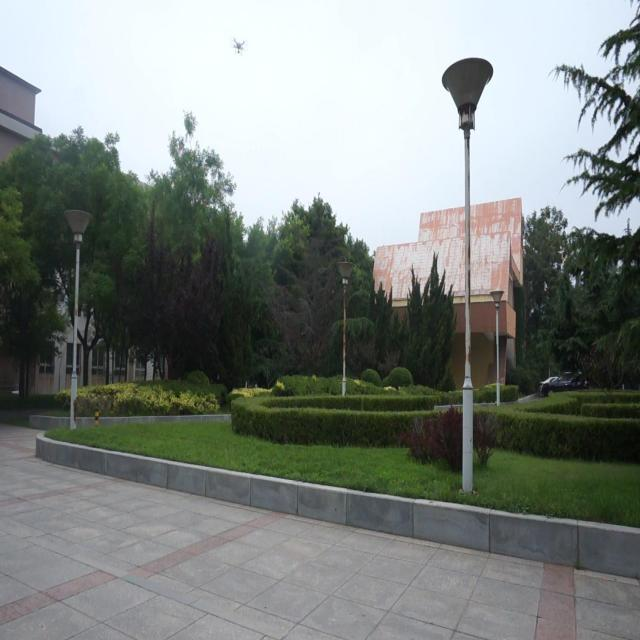UAV: (229, 36, 249, 56)
